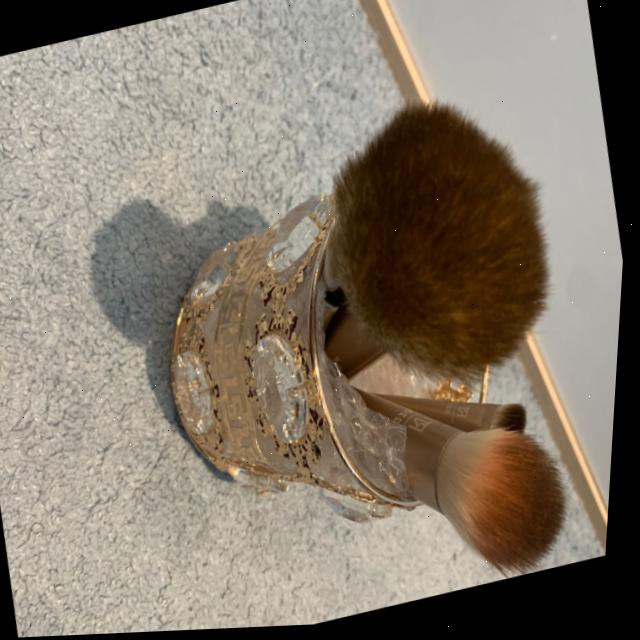brush: (280, 61, 602, 419), (399, 403, 609, 604)
